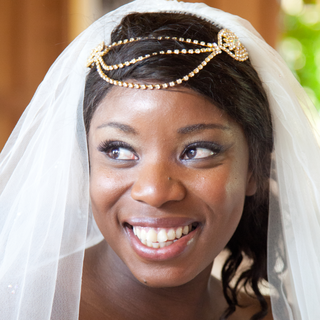eye: (176, 139, 224, 165), (96, 139, 141, 165)
